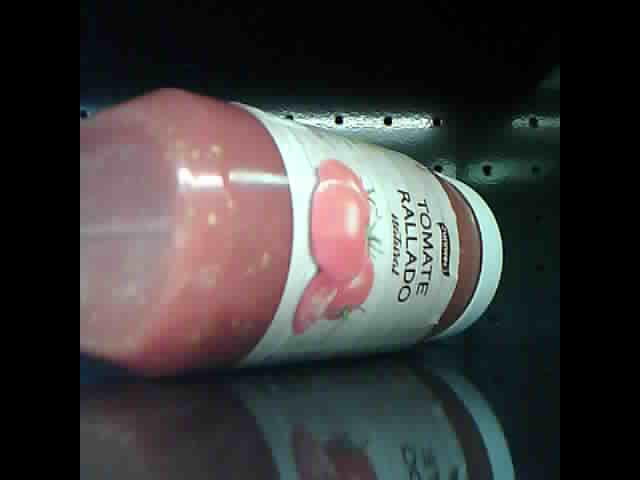tomate: (83, 88, 505, 376)
